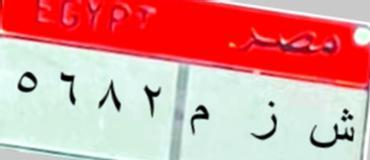2: (138, 81, 166, 128)
5: (13, 66, 40, 105)
6: (54, 65, 82, 111)
8: (95, 75, 127, 121)
meem: (188, 100, 213, 146)
sheen: (306, 107, 359, 156)
zay: (246, 96, 283, 148)
